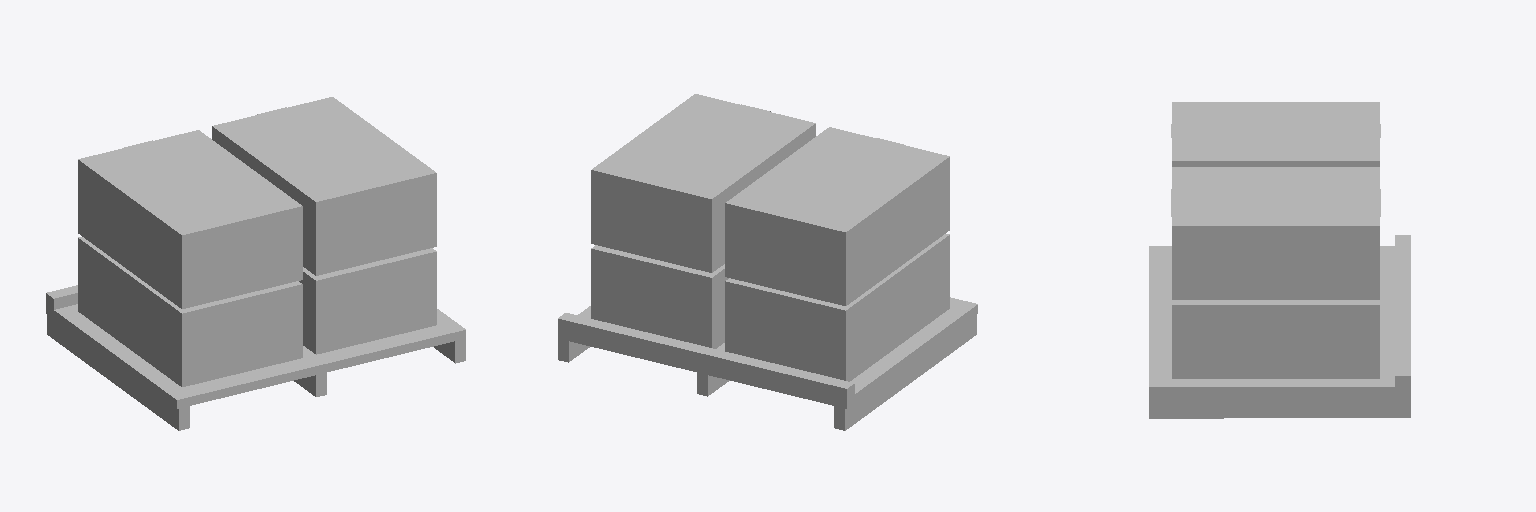
Rendered from Cardboard_wood_pallet_01.obj.
The picture shows the model from 3 angles: view 1: azimuth 30°, elevation 25°; view 2: azimuth 150°, elevation 25°; view 3: azimuth 270°, elevation 25°; orthographic projection.
Parts seen in each view (by area): view 1: Cardboard_wood_pallet_01; view 2: Cardboard_wood_pallet_01; view 3: Cardboard_wood_pallet_01.
Part boxes in pixels (x1,y1,x2,y2): Cardboard_wood_pallet_01: (46,97,465,430); Cardboard_wood_pallet_01: (558,94,977,430); Cardboard_wood_pallet_01: (1149,102,1410,418).
Size of the model in its own units: 38.34 by 23.35 by 30.14.